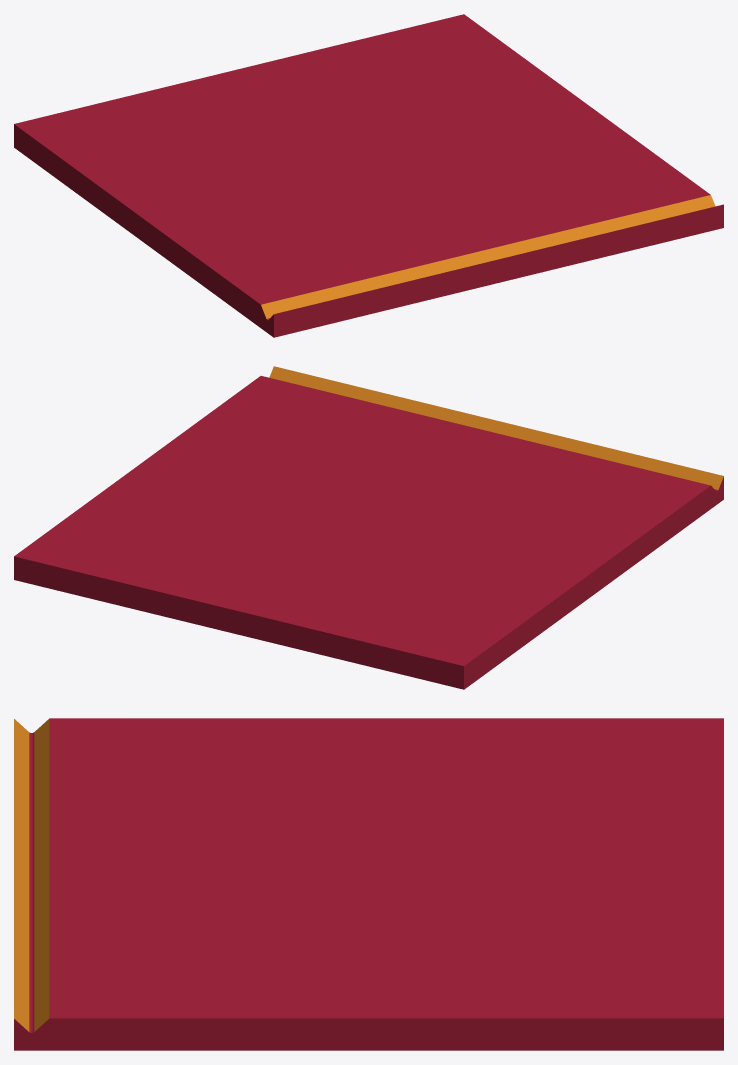
The model's file is Side_Rug.fbx.
The picture shows the model from 3 angles, top to bottom: view 1: azimuth 30°, elevation 25°; view 2: azimuth 150°, elevation 25°; view 3: azimuth 270°, elevation 25°; orthographic projection. The views are drawn at different scales.
Visible parts, largest first — view 1: Side_Rug; view 2: Side_Rug; view 3: Side_Rug.
Boxes of the visible parts, x1,y1,x2,y2 form: Side_Rug: (14,14,723,337); Side_Rug: (14,366,723,689); Side_Rug: (14,718,723,1050).
Bounding box in the file's own units: 200 × 10 × 200.
Materials: 1 (1 with a texture image).
